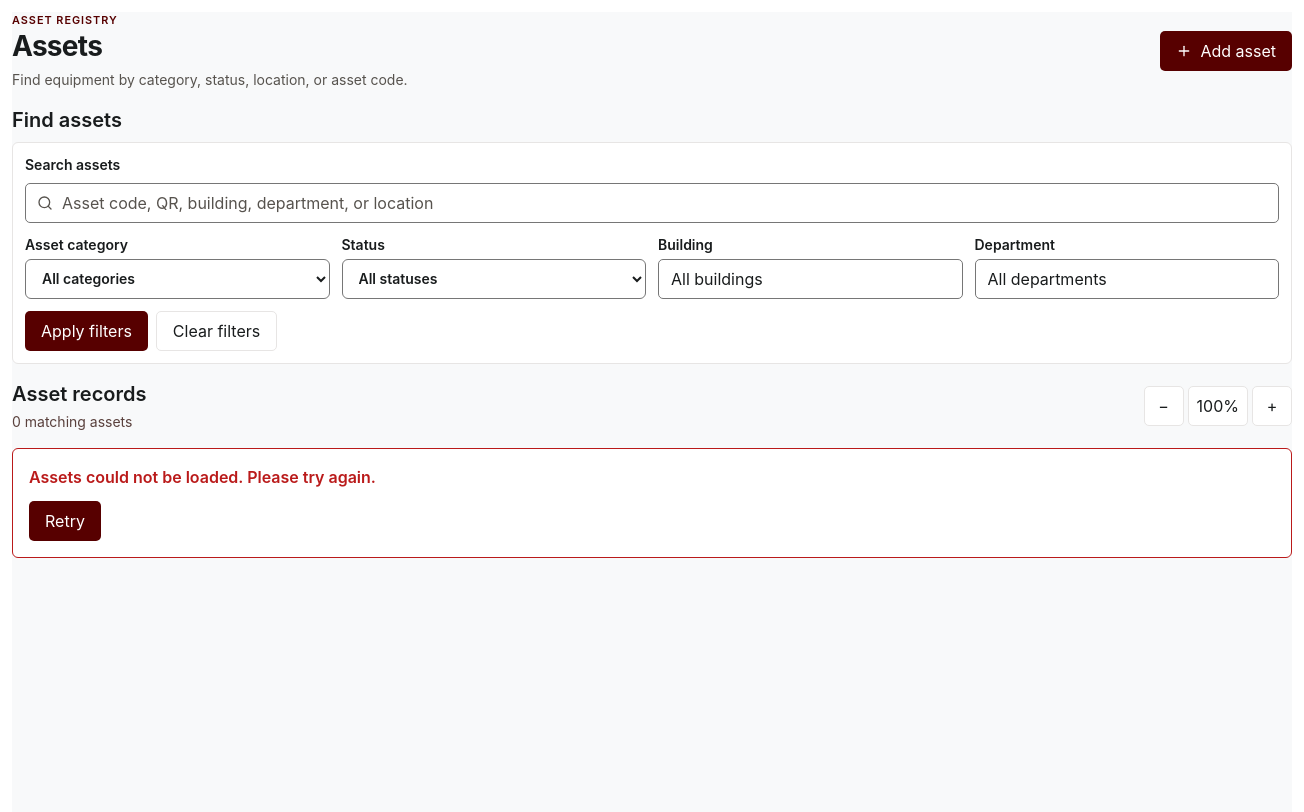
Test: AssetRegistry feature component › retries a failed registry request without displaying false empty results
Expected: the text "Assets could not be loaded. Please try again." is shown, x1=29 y1=467 x2=376 y2=487
Click the button "Retry". click: (65, 521)
box: x1=29 y1=501 x2=101 y2=541
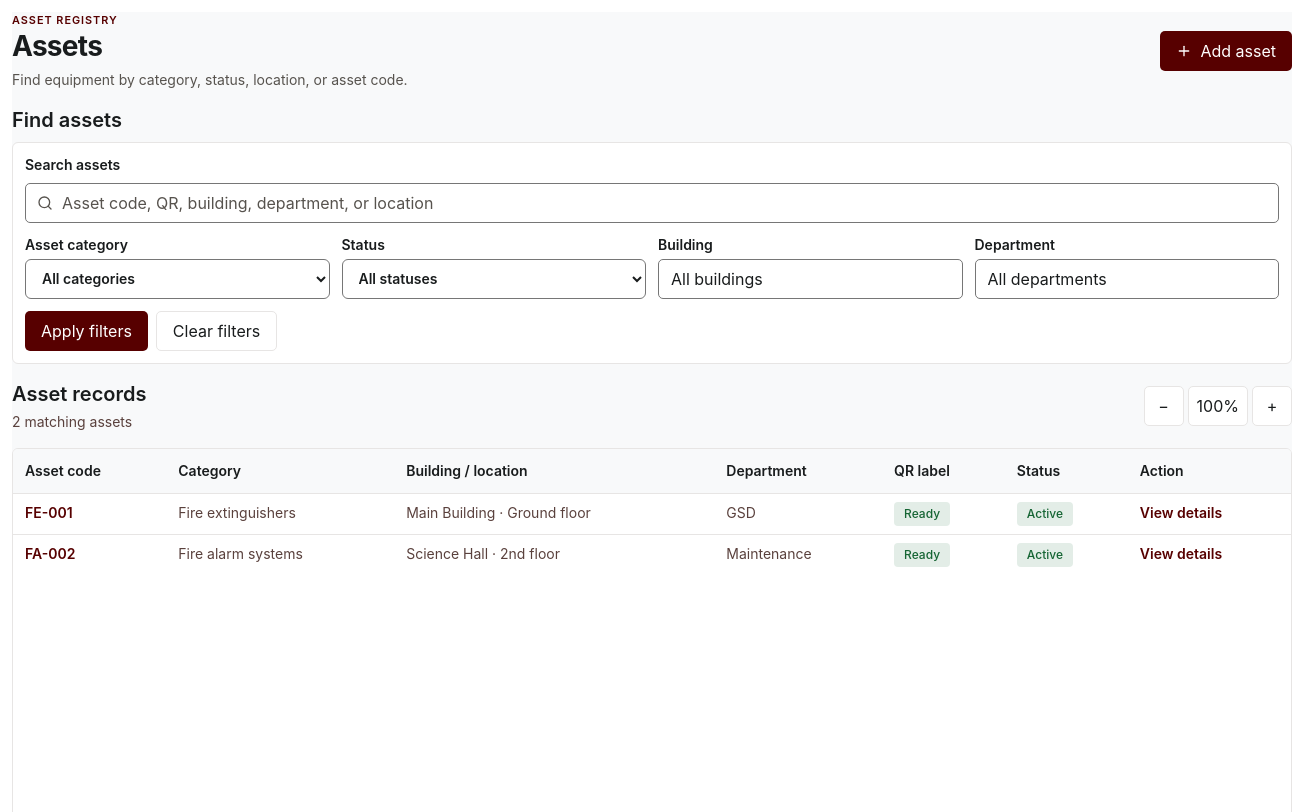
Expected: the link "FE-001" is shown, x1=25 y1=504 x2=73 y2=521
Expected: the text "2 matching assets" is shown, x1=12 y1=412 x2=146 y2=432
